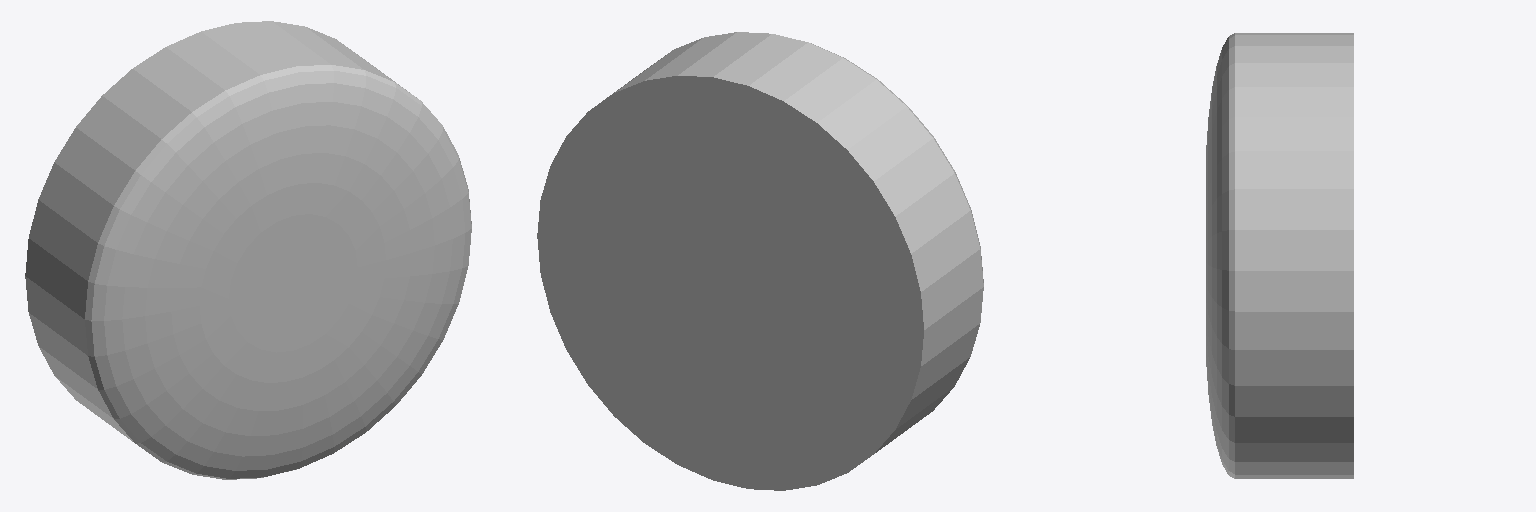
The model's file is LED3mm.obj.
The picture shows the model from 3 angles: view 1: azimuth 30°, elevation 25°; view 2: azimuth 150°, elevation 25°; view 3: azimuth 270°, elevation 25°; orthographic projection.
Parts seen in each view (by area): view 1: LED3mm_v1; view 2: LED3mm_v1; view 3: LED3mm_v1.
Boxes of the visible parts, box(x1,y1,x2,y2) form: LED3mm_v1: box(25, 21, 471, 479); LED3mm_v1: box(537, 32, 983, 490); LED3mm_v1: box(1206, 33, 1353, 478).
Size of the model in its own units: 1.5 by 1.49 by 0.5.